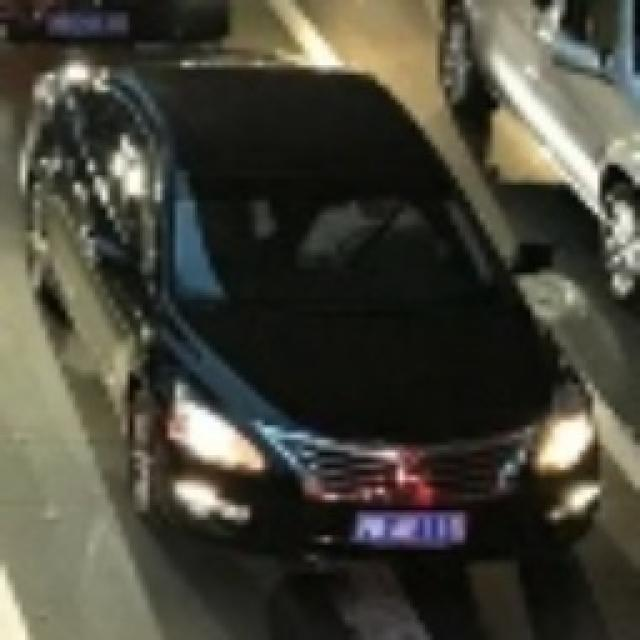windshield: (152, 152, 511, 337)
